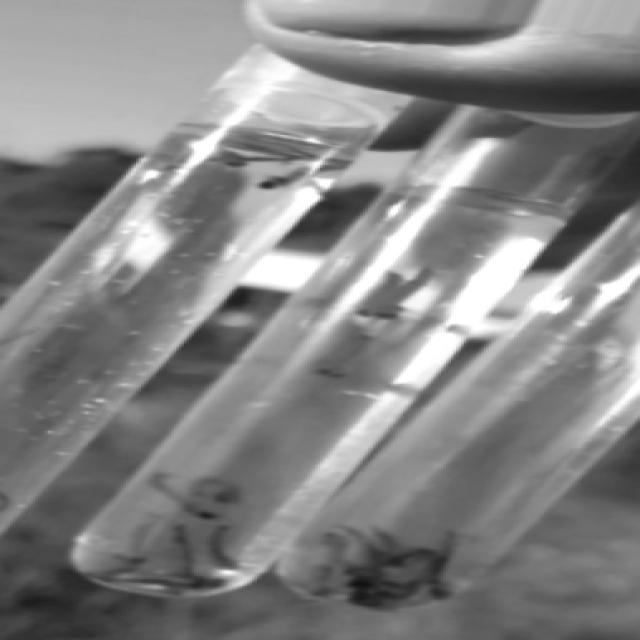larvas: (304, 330, 381, 385), (145, 473, 220, 527), (376, 265, 438, 321), (118, 511, 169, 565), (256, 156, 333, 191), (337, 519, 394, 566), (354, 266, 406, 317), (367, 546, 432, 575), (427, 534, 454, 600), (352, 582, 421, 605), (173, 522, 199, 577), (313, 534, 352, 569), (194, 477, 244, 503), (211, 526, 240, 570), (97, 560, 143, 586), (159, 573, 223, 590), (184, 155, 301, 164), (350, 580, 403, 590)
